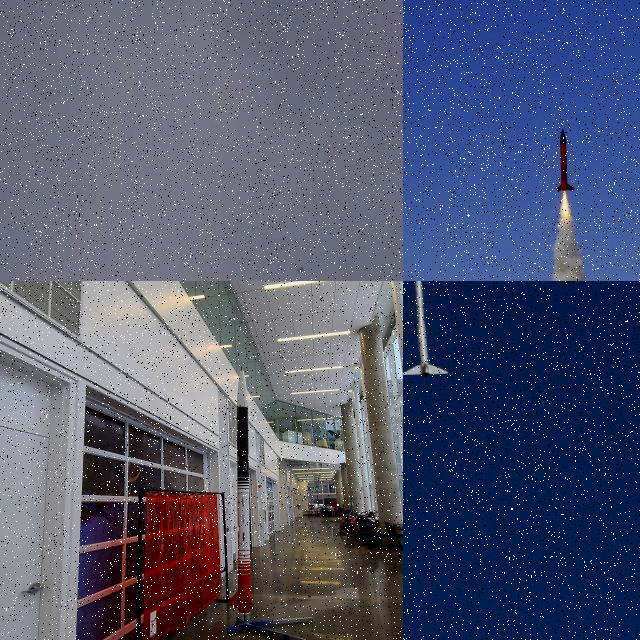Rocket: (229, 366, 254, 613), (403, 281, 450, 379), (556, 129, 575, 191), (297, 267, 303, 272)
